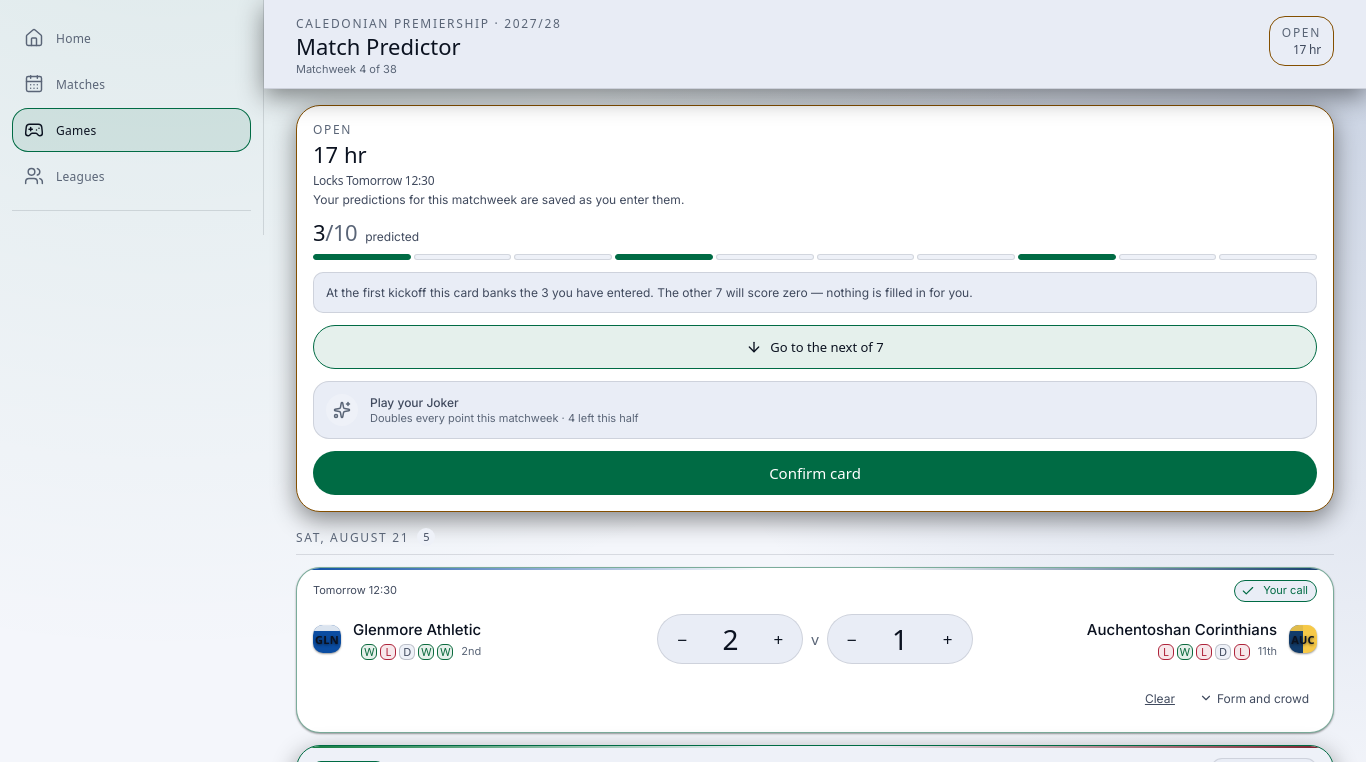
Test: score entry › clamps a typed score to the two digits the schema allows
The image size is (1366, 762).
Type "999" into the field named "Glenmore Athletic score" at [730, 639], box [708,617,752,661]
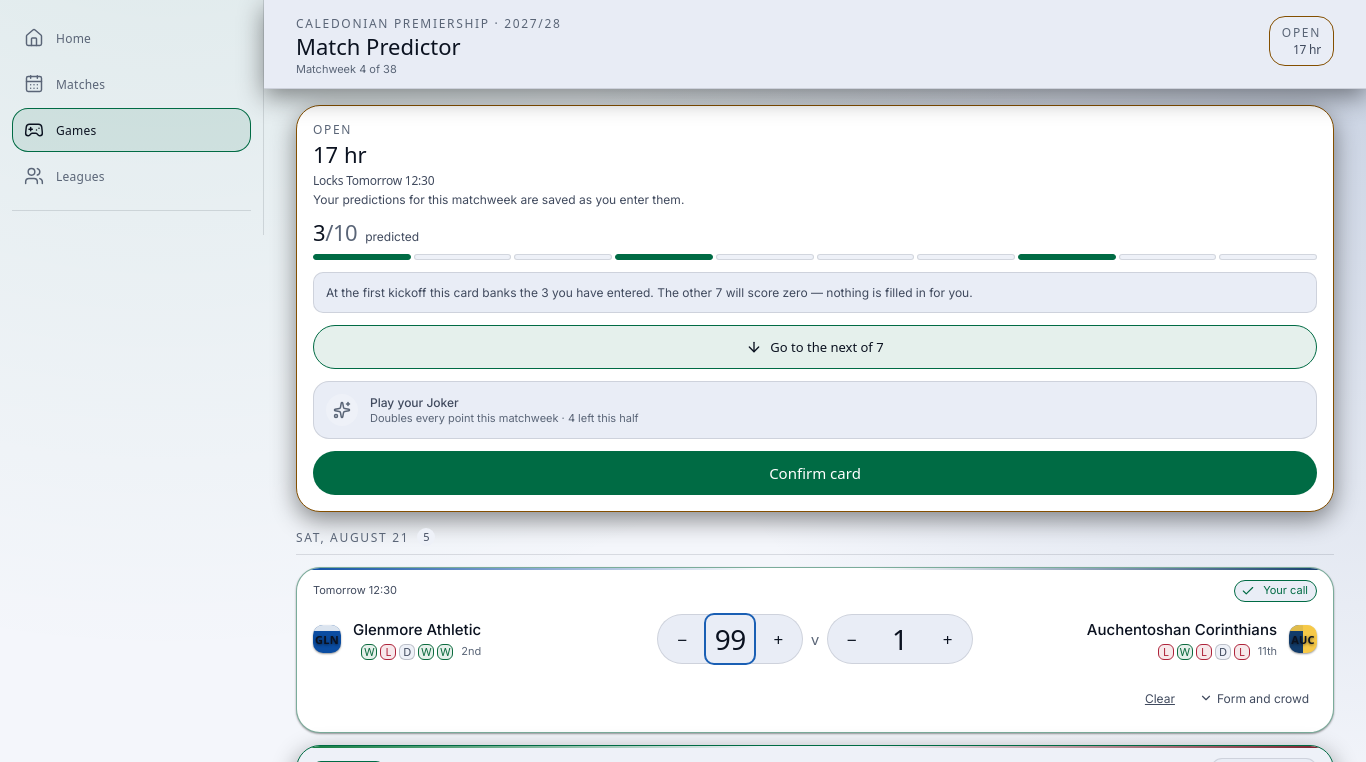
Expected: the field named "Glenmore Athletic score" holds "99", [708,617,752,661]
